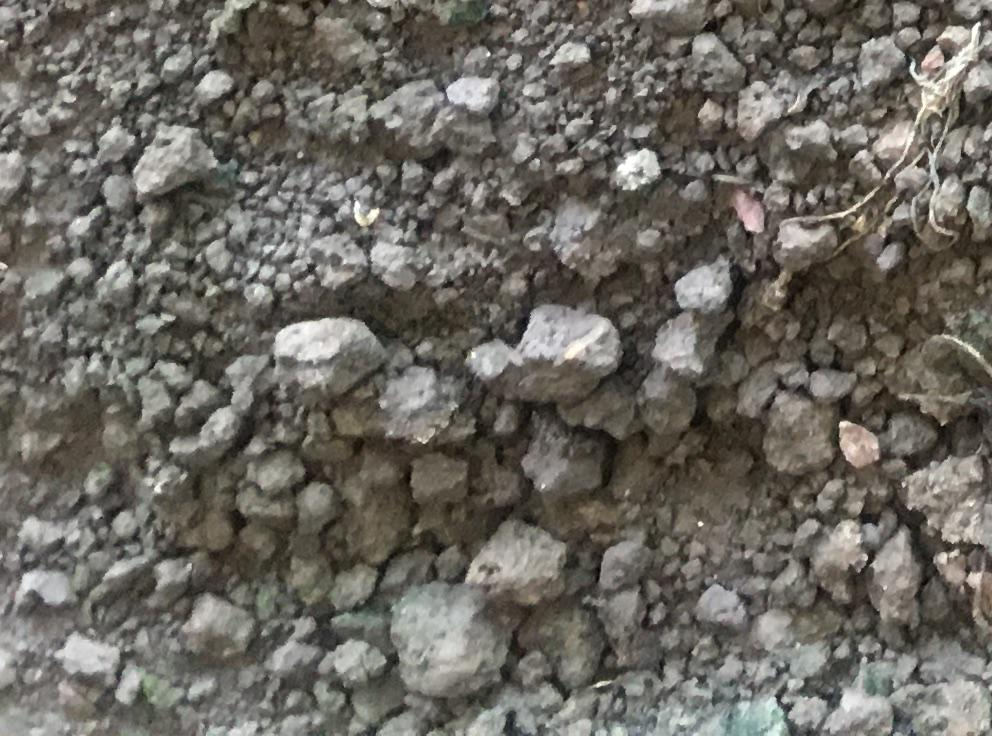block: (385, 579, 508, 698), (491, 303, 621, 408), (267, 316, 381, 403), (463, 516, 567, 608)
